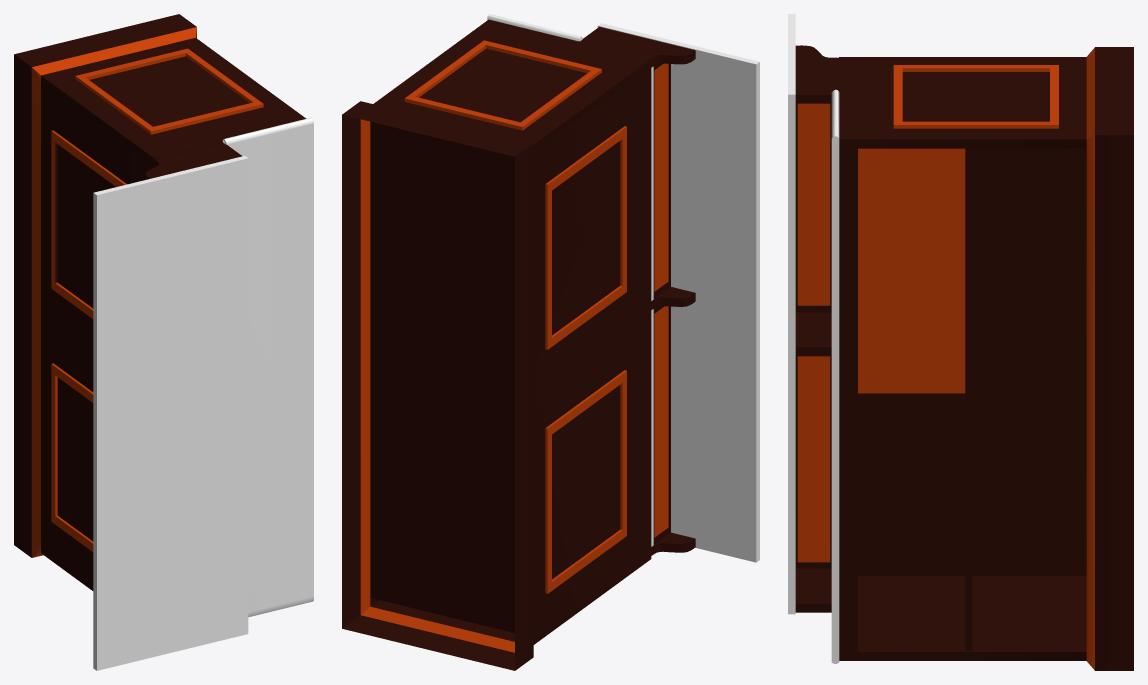
Rendered from BarStandModel.obj.
3 renders of one model, left to right at view 1: azimuth 30°, elevation 25°; view 2: azimuth 150°, elevation 25°; view 3: azimuth 270°, elevation 25°, orthographic. The views are drawn at different scales.
Parts seen in each view (by area): view 1: SM_Bar_Mesh; view 2: SM_Bar_Mesh; view 3: SM_Bar_Mesh.
Boxes of the visible parts, x1,y1,x2,y2 form: SM_Bar_Mesh: (14,14,313,670); SM_Bar_Mesh: (342,14,759,670); SM_Bar_Mesh: (788,14,1133,670).
Size of the model in its own units: 0.9059 by 1.76 by 1.03.
